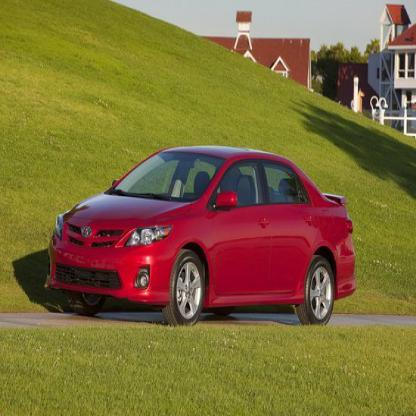Vehicle: (44, 141, 361, 328)
